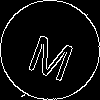M: (25, 25, 80, 83)
